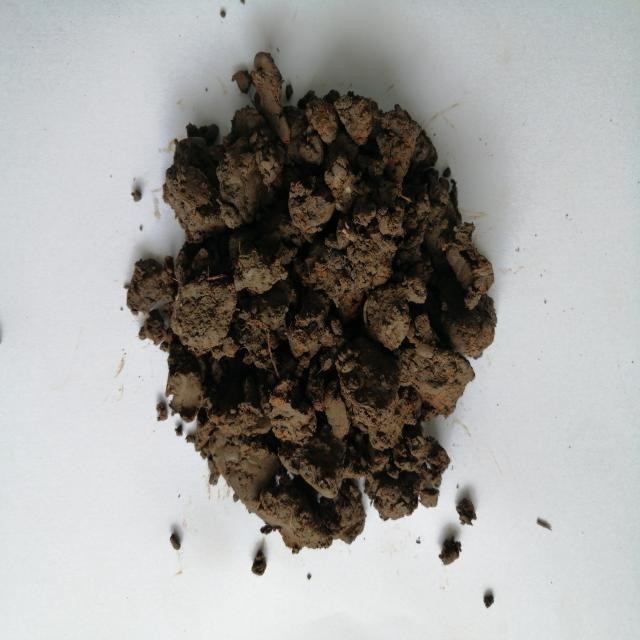soil: (192, 150, 438, 470)
